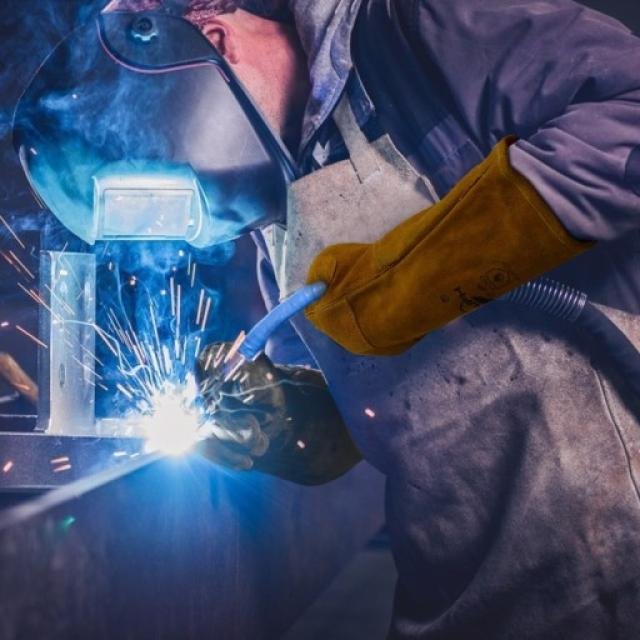welding: (146, 394, 203, 458)
